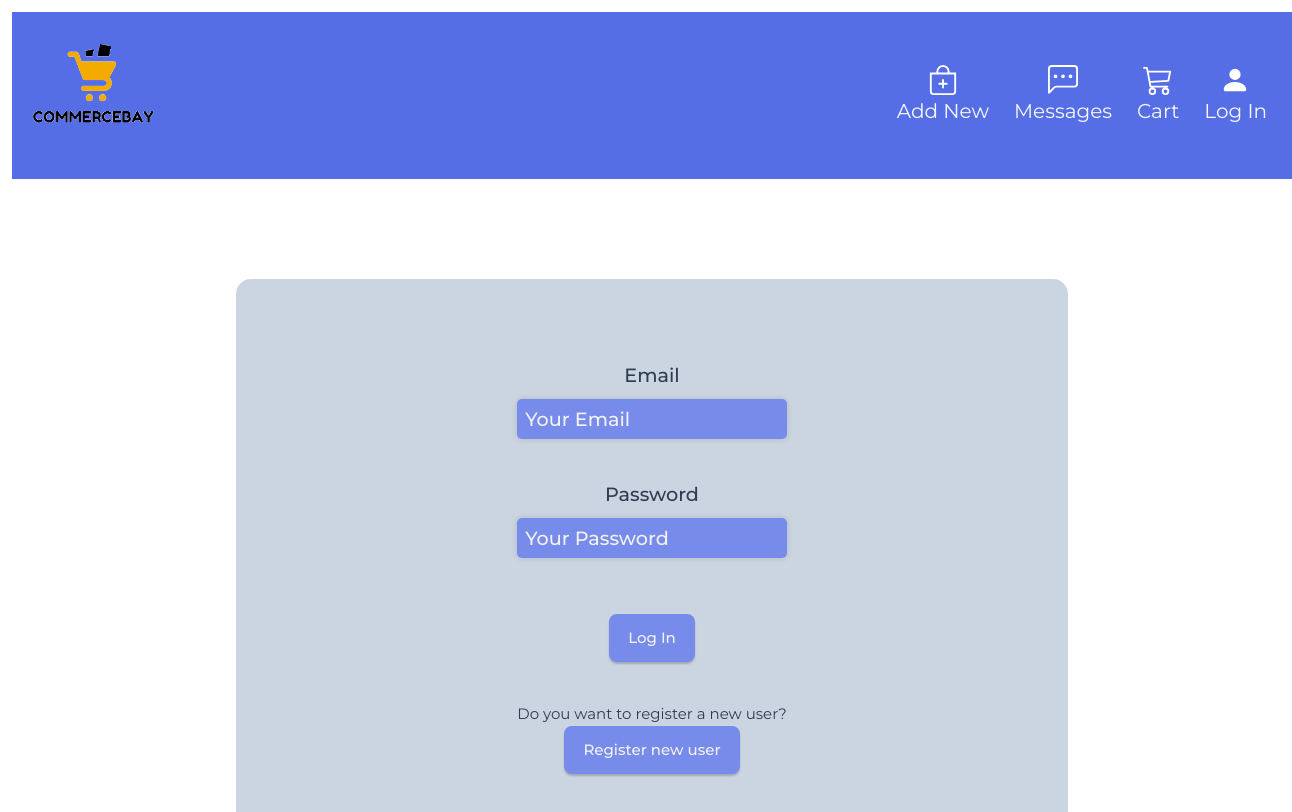
it: User Login › shows an error message when input fields are empty
Click the button "Log In". click: (652, 638)
box: [609,614,695,662]
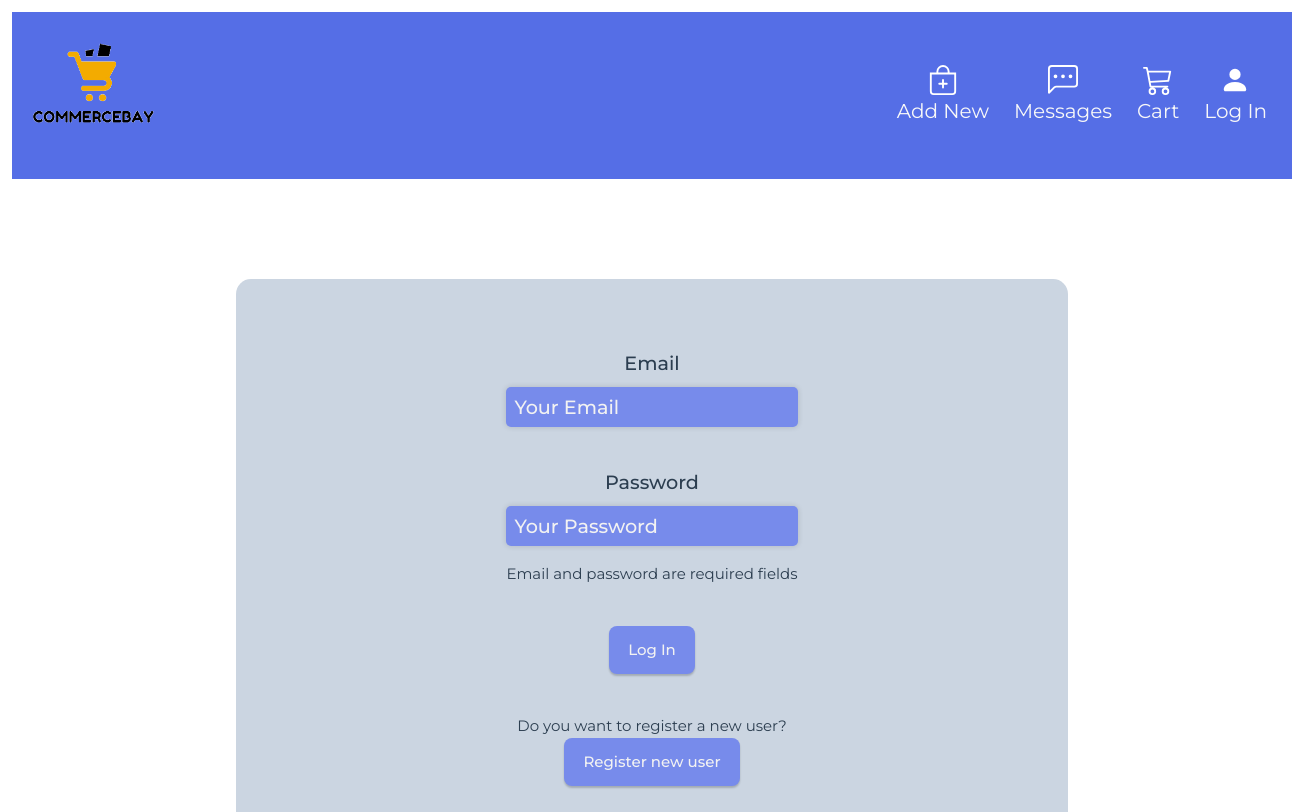
Expected: the text "Email and password are required fields" is shown, [506,562,798,586]
